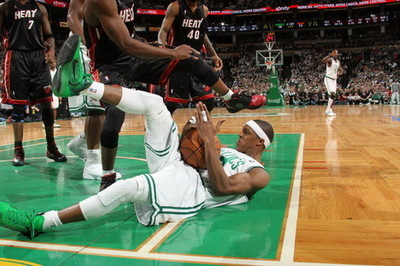10+: (1, 3, 399, 211)
down: (1, 34, 276, 241)
